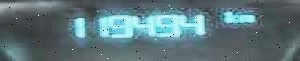1: (68, 15, 86, 38), (93, 15, 106, 36)
4: (177, 14, 204, 34), (131, 15, 153, 35)
9: (153, 13, 177, 37), (106, 14, 128, 38)
X: (222, 9, 237, 23), (237, 13, 253, 22)
